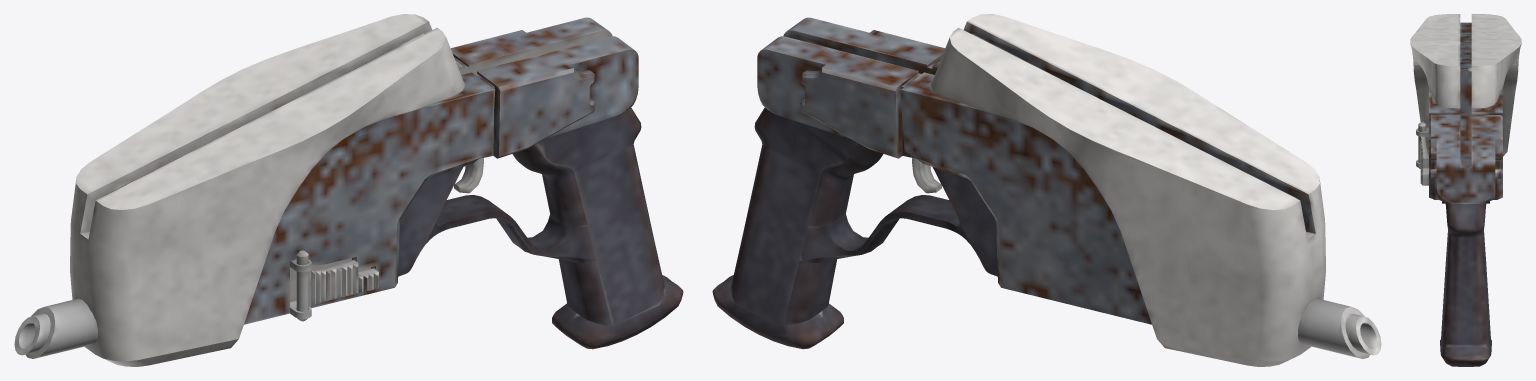
File: weapon_autorifle.fbx
3 renders of one model, left to right at view 1: azimuth 30°, elevation 25°; view 2: azimuth 150°, elevation 25°; view 3: azimuth 270°, elevation 25°, orthographic. The views are drawn at different scales.
Parts seen in each view (by area): view 1: Auto_body, Auto_MagEject, auto_Trigger; view 2: Auto_body, auto_Trigger; view 3: Auto_body, Auto_MagEject.
Part boxes in pixels (x1,y1,x2,y2): Auto_body: (14, 14, 683, 366); Auto_MagEject: (296, 250, 378, 321); auto_Trigger: (454, 158, 483, 193); Auto_body: (712, 14, 1381, 366); auto_Trigger: (912, 158, 941, 193); Auto_body: (1410, 14, 1521, 366); Auto_MagEject: (1418, 122, 1428, 185).
Size of the model in its own units: 25.09 by 12.85 by 5.49.
